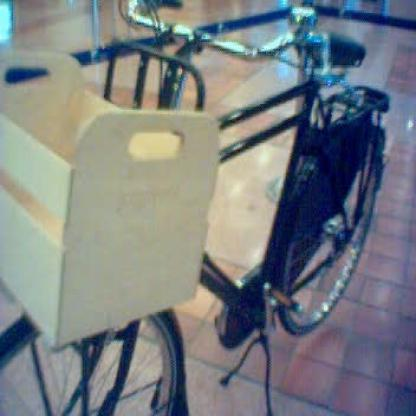bicycle: (0, 0, 389, 415)
